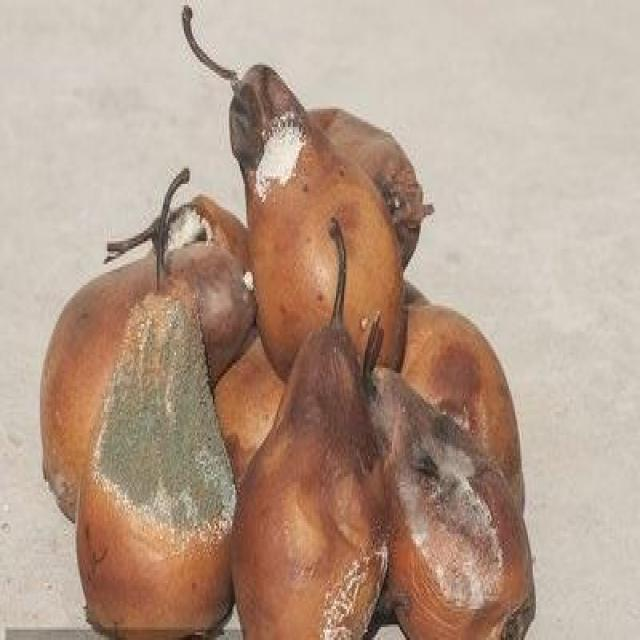organic: (40, 8, 538, 640)
